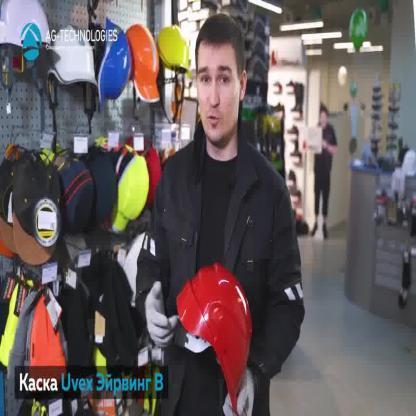gloves: (144, 278, 180, 349), (222, 371, 254, 415)
helmet: (174, 262, 254, 416), (97, 15, 134, 113), (48, 24, 99, 90), (125, 21, 161, 108), (0, 0, 53, 50), (157, 22, 192, 74)
